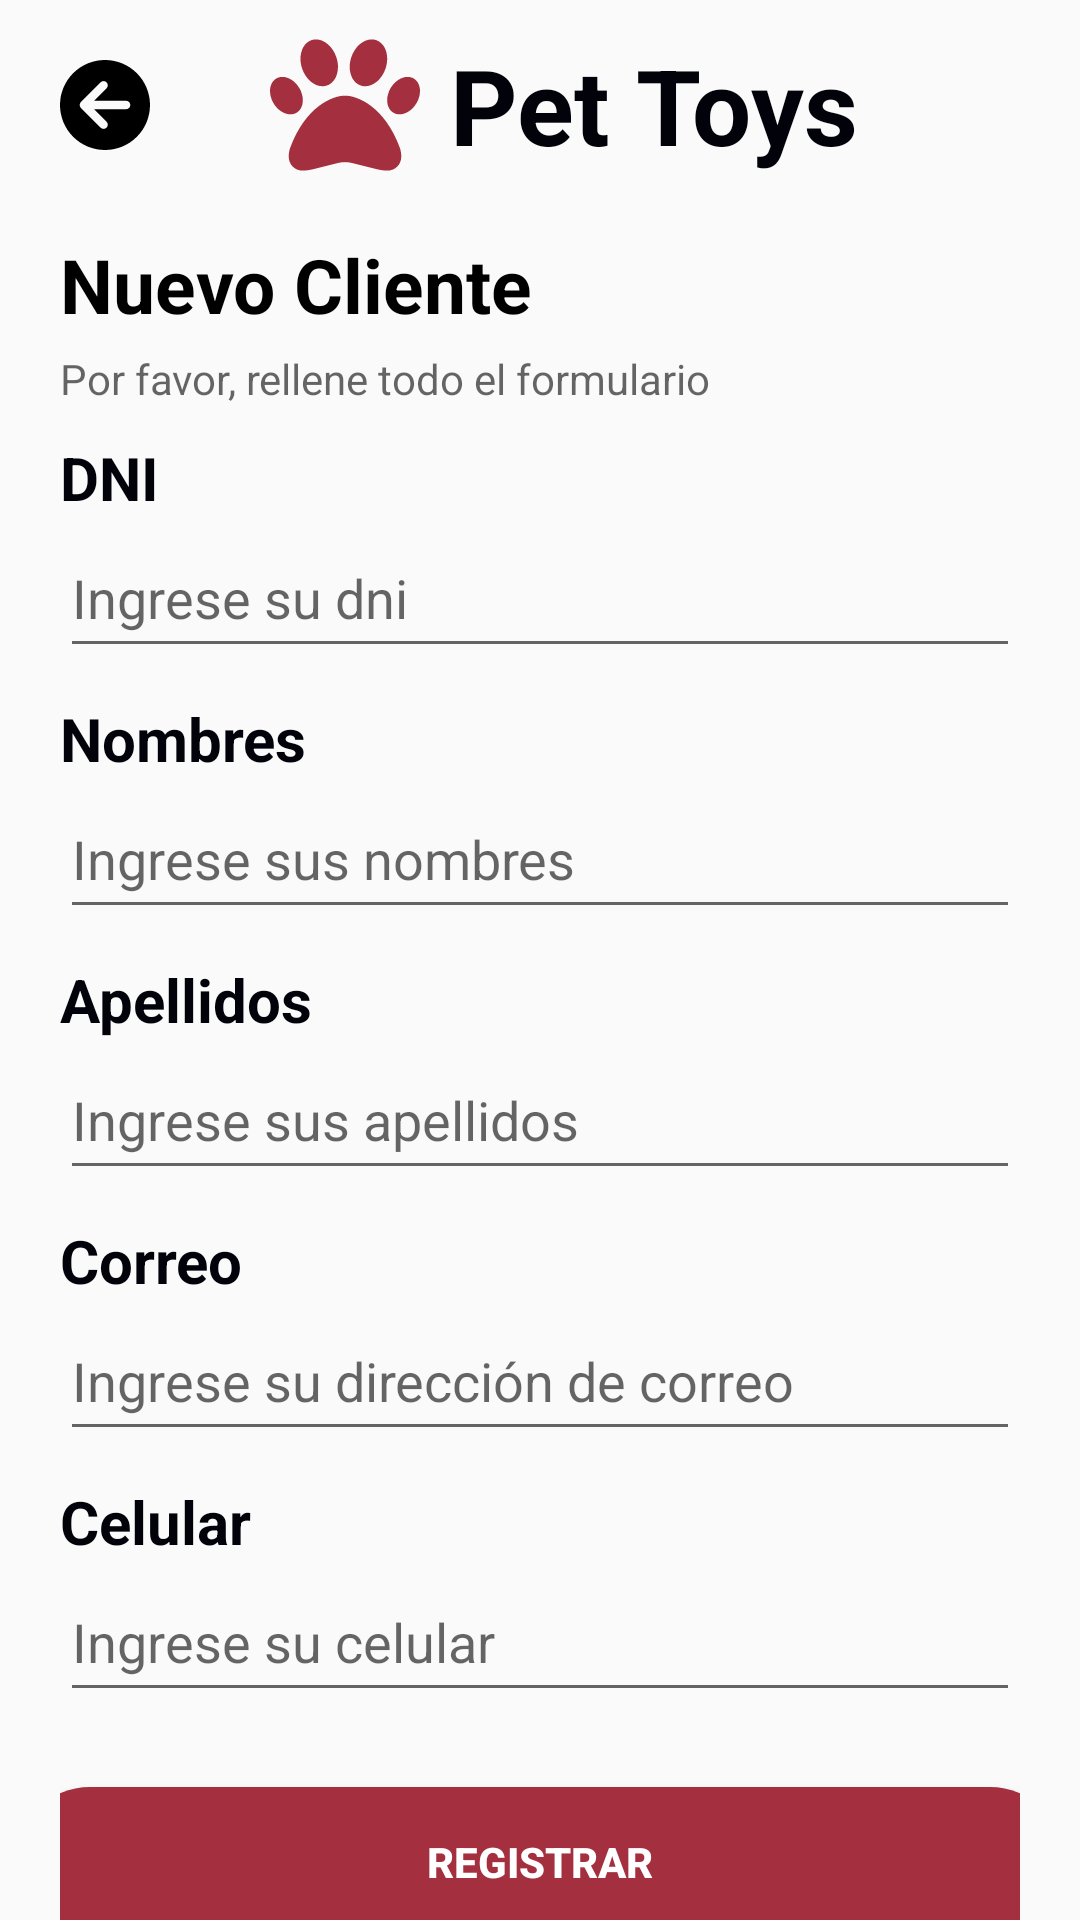

Icon click points for this 1080*1920 phone screenshot, format (x=x, y=y):
paw: (x=345, y=105)
